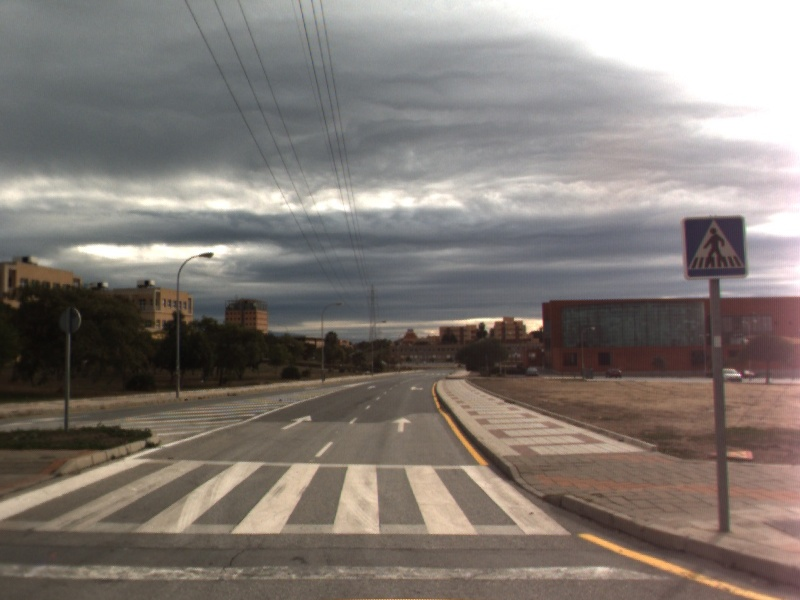STRAIGHT: (278, 413, 314, 432), (389, 415, 414, 434)
